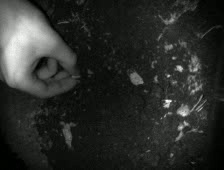corn: (70, 72, 81, 81)
